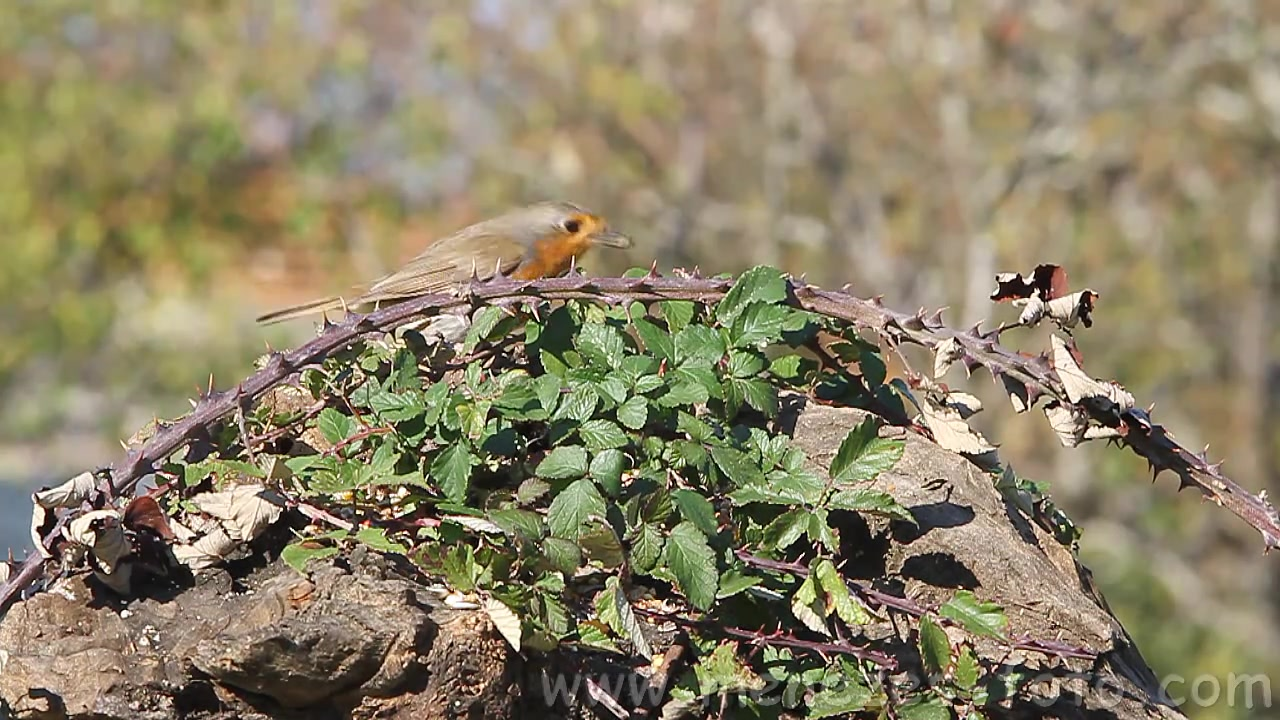bird: (258, 202, 638, 327)
